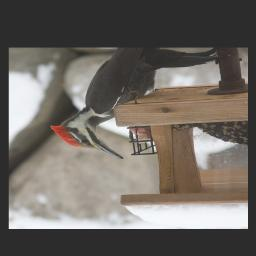Woodpecker: (39, 48, 227, 159)
